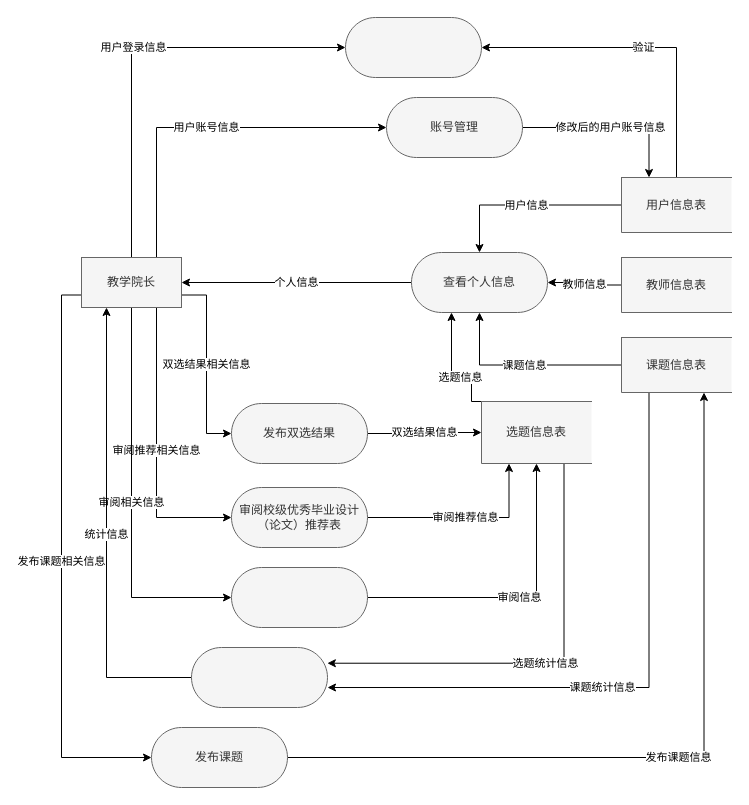
This 749x805 diagram has some shape labels left out. The centre of each missing label's shape, as x and y in pixels:
审阅外出毕业设计: point 299,597
用户登录: point 413,47
过程信息统计: point 259,677
